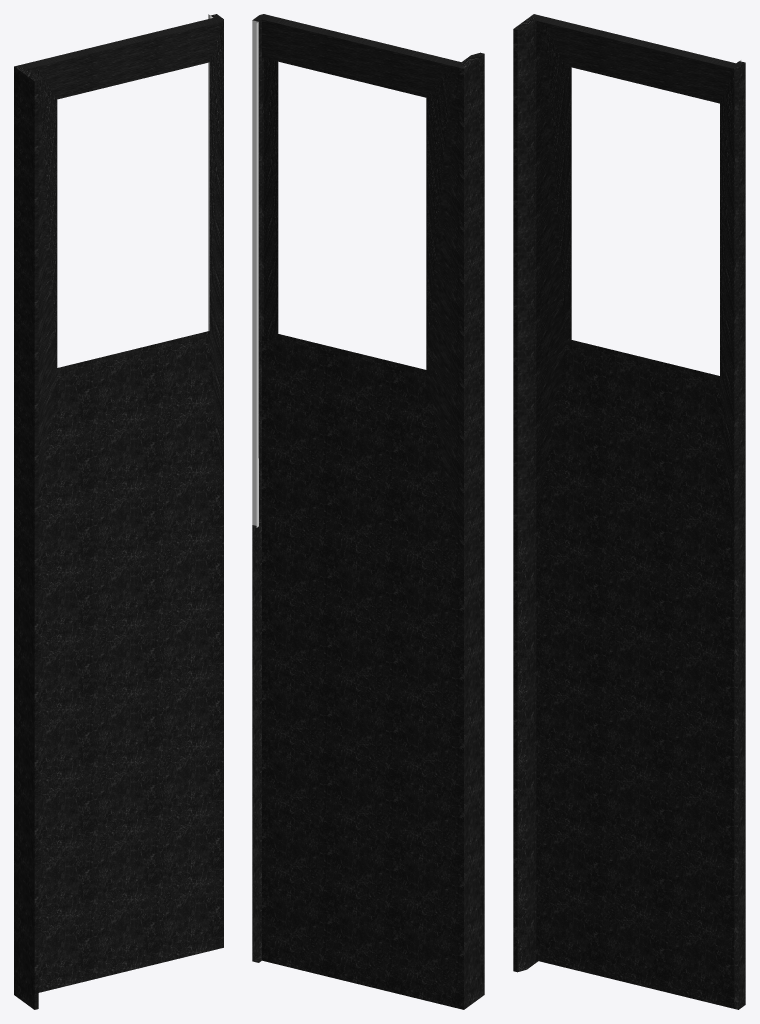
Rendered from sink1.dae.
3 views of the same model, side by side, from view 1: azimuth 30°, elevation 25°; view 2: azimuth 150°, elevation 25°; view 3: azimuth 330°, elevation 25° (orthographic).
Visible parts, largest first — view 1: group_17.004; view 2: group_17.004; view 3: group_17.004.
Boxes of the visible parts, x1=… form: group_17.004: x1=14, y1=14, x2=223, y2=1009; group_17.004: x1=252, y1=14, x2=484, y2=1009; group_17.004: x1=513, y1=14, x2=745, y2=1009.
Bounding box in the file's own units: 0.6 × 0.1295 × 2.59.
3 materials, 2 textured.
